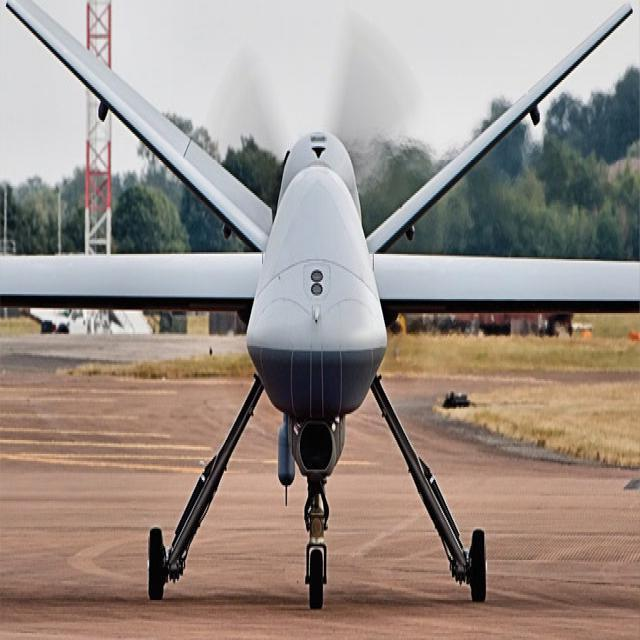iha: (0, 5, 639, 614)
